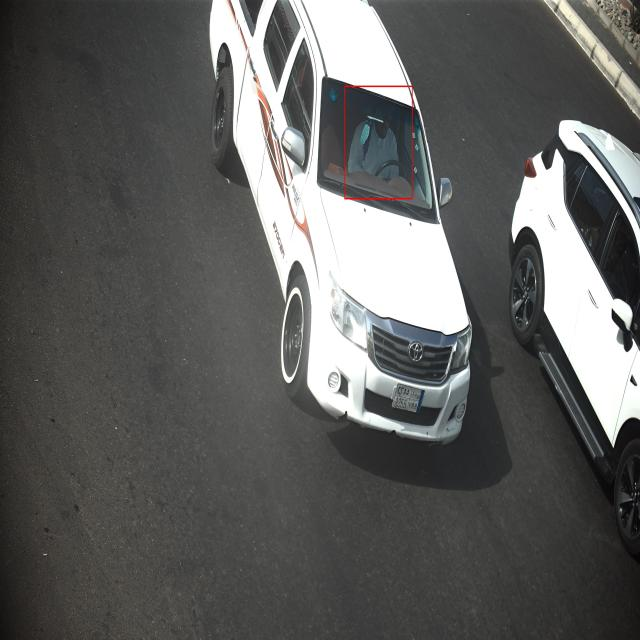windshield: (316, 73, 442, 237)
